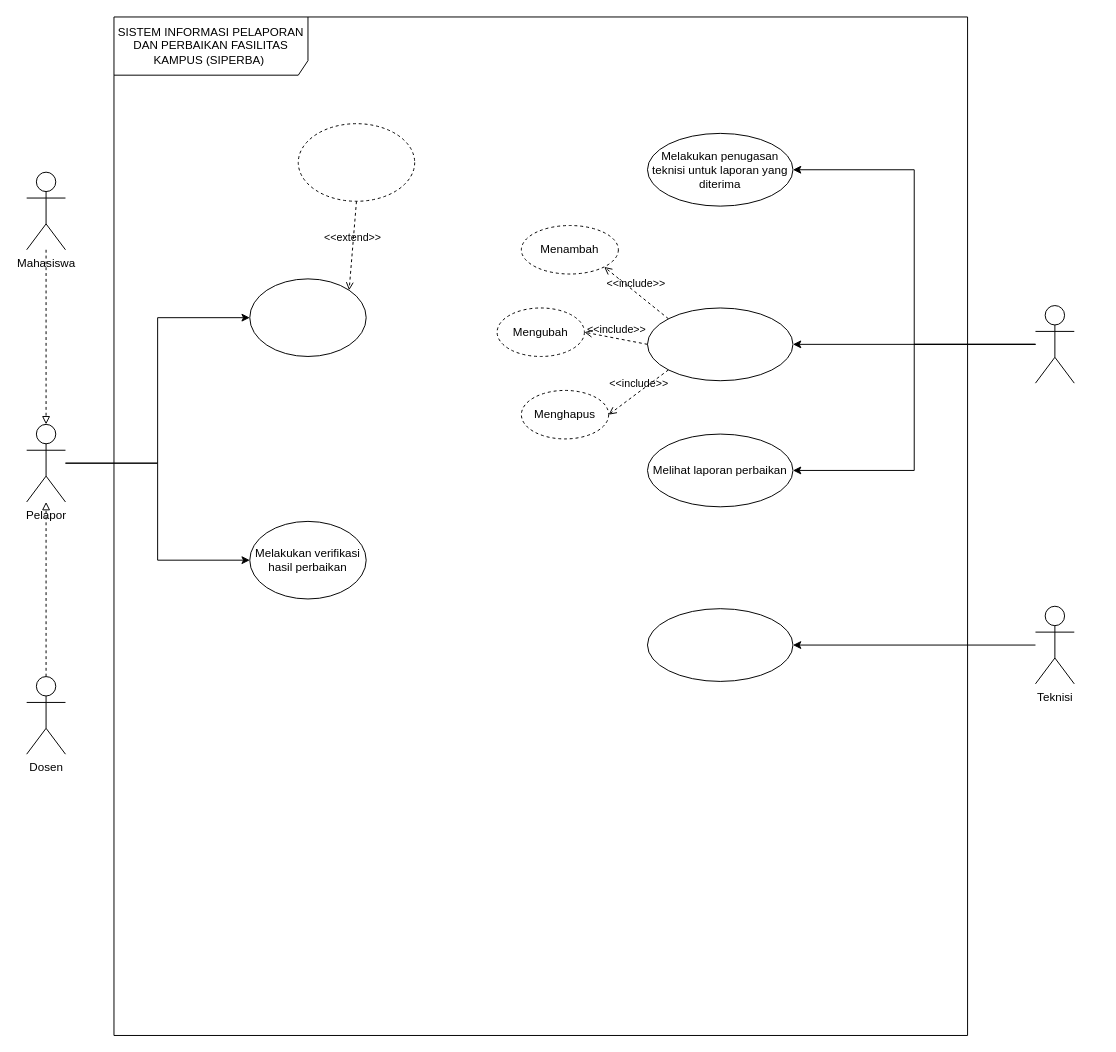
Image size: 1116x1052. Some labels were removed from this diagram. Here are the shapes that lost their labels. From the top down, the centre of each, then its label:
(x=356, y=162): Melihat status laporan
(x=307, y=317): Membuat laporan kerusakan fasilitas
(x=720, y=344): Melakukan pengelolaan data fasilitas
(x=1054, y=344): Petugas Fasilitas
(x=720, y=644): Mencatat perbaikan yang dilakukan
